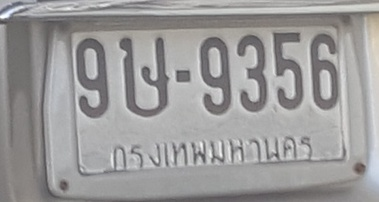num9: (74, 37, 110, 120)
txt34: (117, 35, 172, 119)
